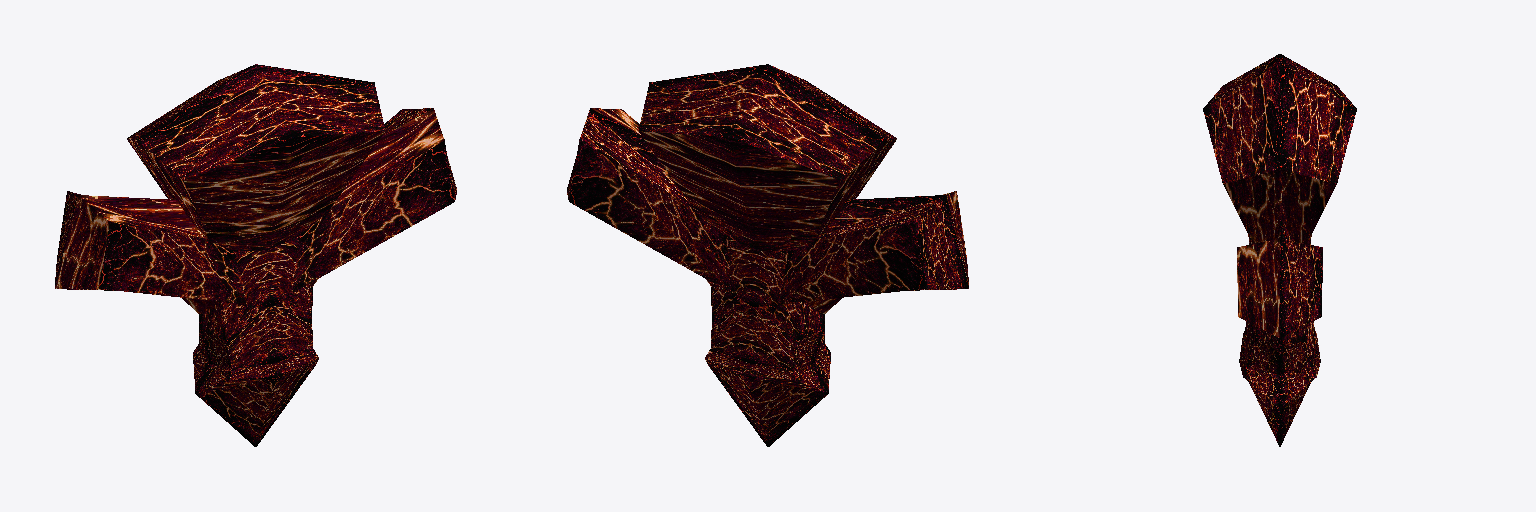
3 renders of one model, left to right at view 1: azimuth 30°, elevation 25°; view 2: azimuth 150°, elevation 25°; view 3: azimuth 270°, elevation 25°, orthographic.
Visible parts, largest first — view 1: Mesh; view 2: Mesh; view 3: Mesh.
Boxes of the visible parts, x1=… form: Mesh: x1=55, y1=64, x2=456, y2=446; Mesh: x1=567, y1=64, x2=968, y2=446; Mesh: x1=1203, y1=54, x2=1356, y2=446.
Bounding box in the file's own units: 4.41 × 4.01 × 1.46.
Materials: 1 (1 with a texture image).